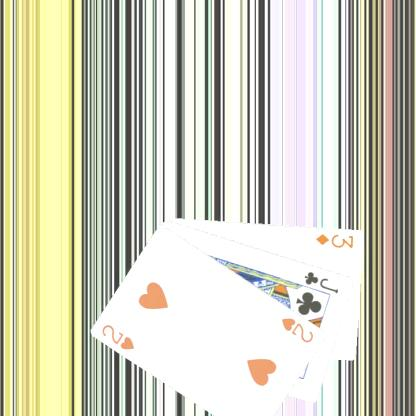2H: (278, 315, 316, 344), (100, 322, 136, 352)
3D: (313, 231, 355, 250)
JC: (302, 268, 340, 294)
